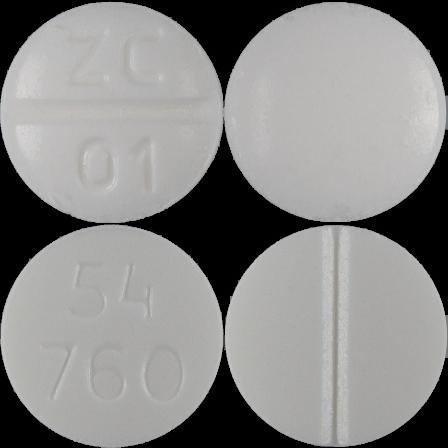0615-1539: (0, 0, 224, 224)
